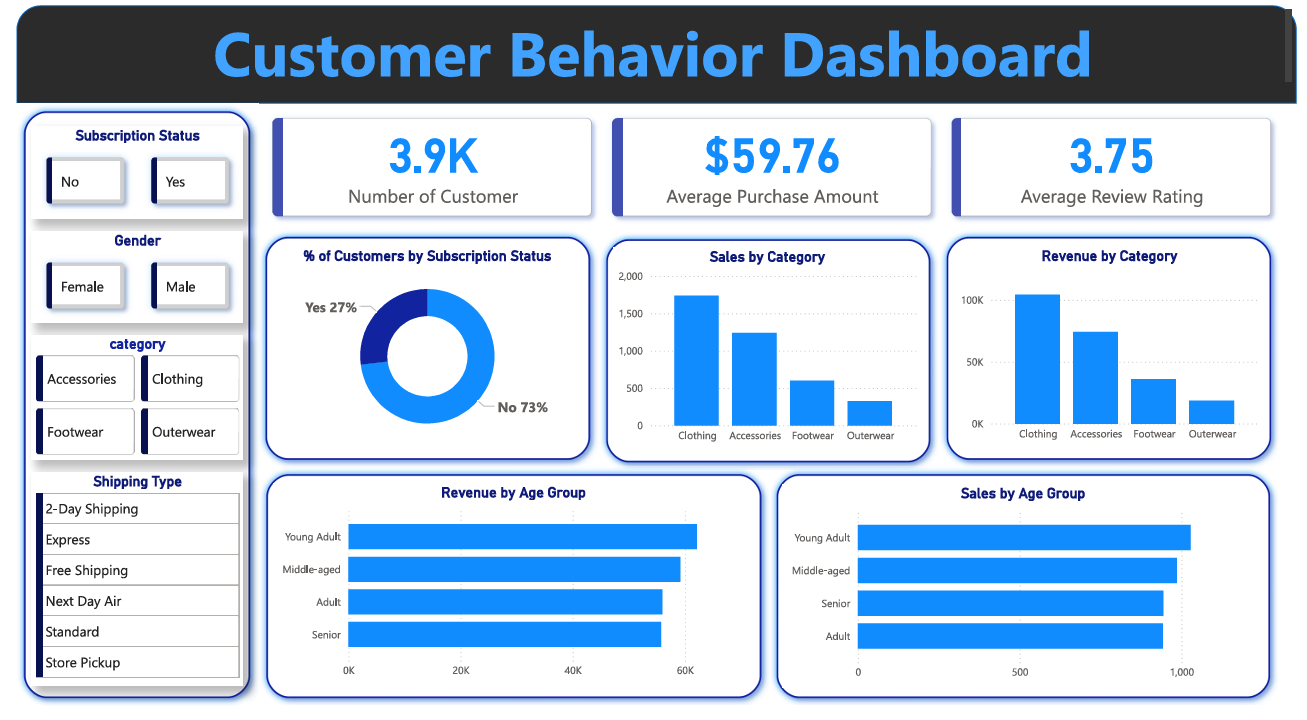

This screenshot's page, from the dashboard's own definition file:
{"tool":"powerbi","page":{"name":"Page 1","canvas":[1500,820],"ordinal":0},"visuals":[{"type":"cardVisual","fields":{"Data":["customer.Number of Customer","customer.Average Purchase Amount","customer.Average Review Rating"]},"box":[282.8,114.9,1206.9,149.7],"z":0},{"type":"shape","box":[0,0,1500.3,114.9],"z":1000},{"type":"textbox","box":[0,0,1500.3,99.8],"z":2000},{"type":"shape","box":[282.8,261.6,397.8,279.8],"z":3000},{"type":"donutChart","title":"% of Customers by Subscription Status","fields":{"Category":["customer.subscription_status"],"Y":["CountNonNull(customer.customer_id)"]},"box":[301,282.8,361.5,237.4],"z":4000},{"type":"shape","box":[0,114.9,282.8,704.8],"z":5000},{"type":"advancedSlicerVisual","title":"Subscription Status","fields":{"Values":["customer.subscription_status"]},"box":[18.1,142.2,248,107.4],"z":6000},{"type":"advancedSlicerVisual","title":"Gender","fields":{"Values":["customer.gender"]},"box":[18.1,264.7,248,107.4],"z":7000},{"type":"advancedSlicerVisual","fields":{"Values":["customer.category"]},"box":[18.1,385.7,248,146.7],"z":8000},{"type":"listSlicer","title":"Shipping Type","fields":{"Values":["customer.shipping_type"]},"box":[18.1,547.5,248,249.5],"z":9000},{"type":"shape","box":[682.1,264.7,397.8,279.8],"z":10000},{"type":"clusteredColumnChart","title":"Sales by Category","fields":{"Y":["CountNonNull(customer.customer_id)"],"Category":["customer.category"]},"box":[700.2,284.3,360,237.4],"z":11000},{"type":"shape","box":[1081.4,261.6,397.8,279.8],"z":12000},{"type":"clusteredColumnChart","title":"Revenue by Category","fields":{"Y":["Sum(customer.purchase_amount)"],"Category":["customer.category"]},"box":[1101,282.8,360,237.4],"z":13000},{"type":"shape","box":[284.3,539.9,597.4,279.8],"z":14000},{"type":"shape","box":[881.7,539.9,595.9,279.8],"z":15000},{"type":"clusteredBarChart","title":"Revenue by Age Group","fields":{"Category":["customer.age_group"],"Y":["Sum(customer.purchase_amount)"]},"box":[301,559.6,562.6,237.4],"z":16000},{"type":"clusteredBarChart","title":"Sales by Age Group","fields":{"Category":["customer.age_group"],"Y":["CountNonNull(customer.customer_id)"]},"box":[898.4,561.1,562.6,237.4],"z":17000}]}

Visuals, with their boxes in screenshot pixels (x1, y1, x2, y2), scaled from the page's 1500x820 canvas onto the 1307x720 screenshot:
cardVisual - customer.Number of Customer x customer.Average Purchase Amount: l=246, t=101, r=1298, b=232
shape: l=0, t=0, r=1306, b=101
textbox: l=0, t=0, r=1306, b=88
shape: l=246, t=230, r=593, b=475
"% of Customers by Subscription Status" donutChart: l=262, t=248, r=577, b=457
shape: l=0, t=101, r=246, b=719
"Subscription Status" advancedSlicerVisual: l=16, t=125, r=232, b=219
"Gender" advancedSlicerVisual: l=16, t=232, r=232, b=327
advancedSlicerVisual - customer.category: l=16, t=339, r=232, b=467
"Shipping Type" listSlicer: l=16, t=481, r=232, b=700
shape: l=594, t=232, r=941, b=478
"Sales by Category" clusteredColumnChart: l=610, t=250, r=924, b=458
shape: l=942, t=230, r=1289, b=475
"Revenue by Category" clusteredColumnChart: l=959, t=248, r=1273, b=457
shape: l=248, t=474, r=768, b=719
shape: l=768, t=474, r=1287, b=719
"Revenue by Age Group" clusteredBarChart: l=262, t=491, r=752, b=700
"Sales by Age Group" clusteredBarChart: l=783, t=493, r=1273, b=701
